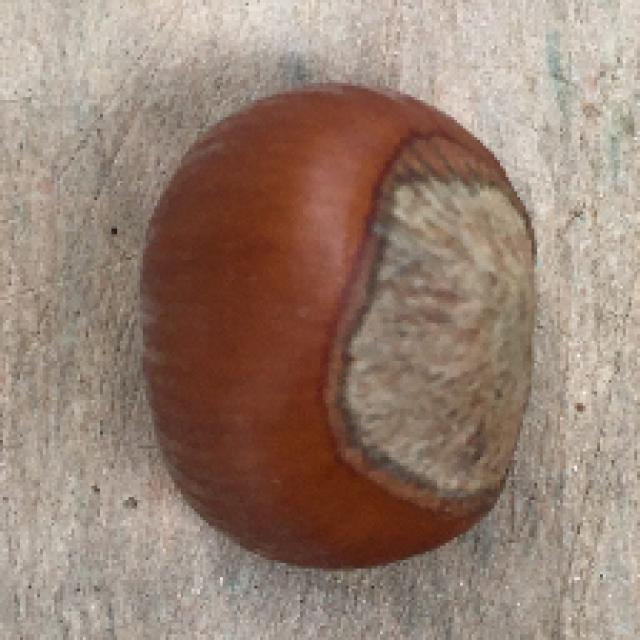hazelnut: (137, 72, 523, 548)
